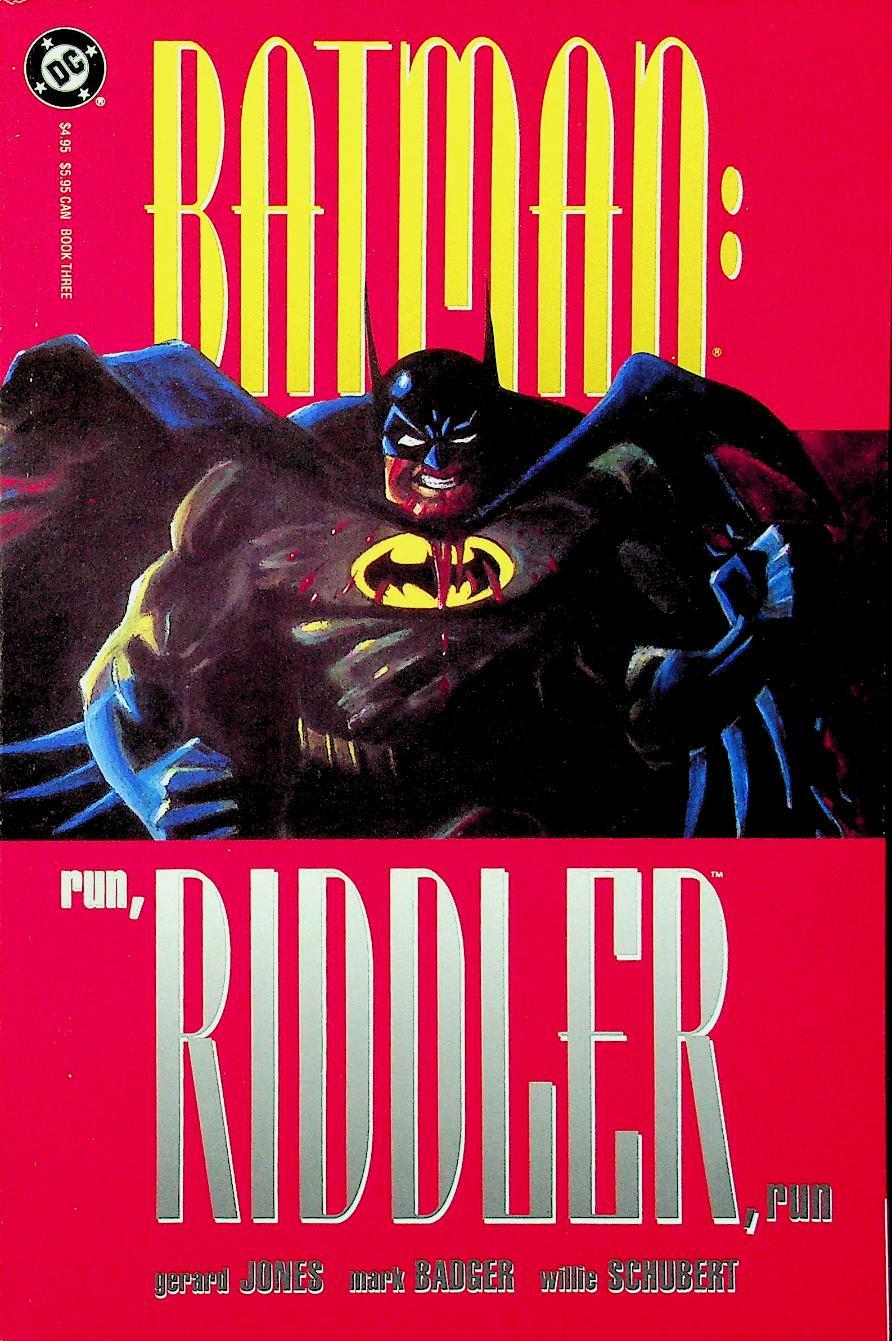comic: (0, 0, 889, 1340)
